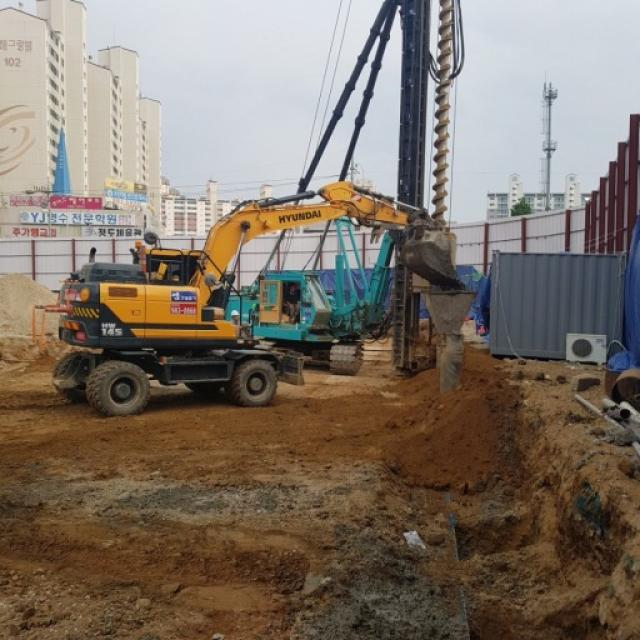excavator: (53, 182, 466, 416)
pile: (432, 0, 454, 225)
